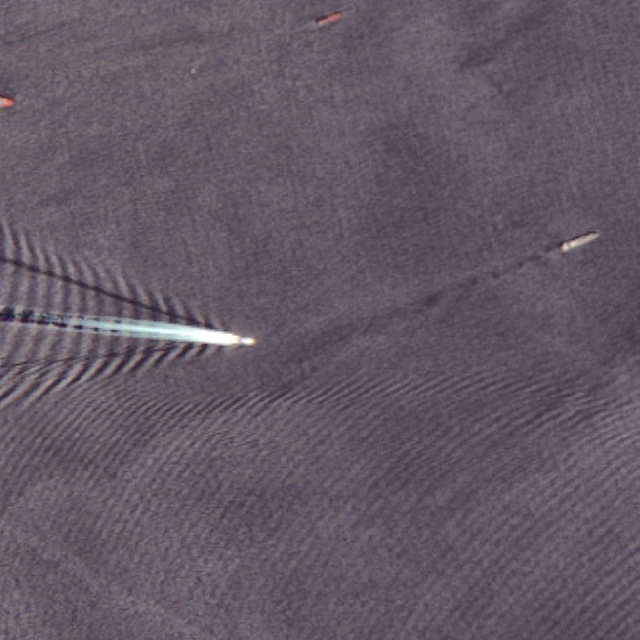wake: (18, 247, 269, 408)
